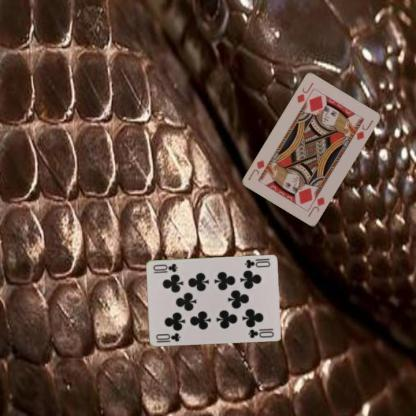10c: (242, 256, 271, 270), (153, 330, 182, 342)
Jd: (294, 80, 315, 104), (305, 195, 326, 218)
